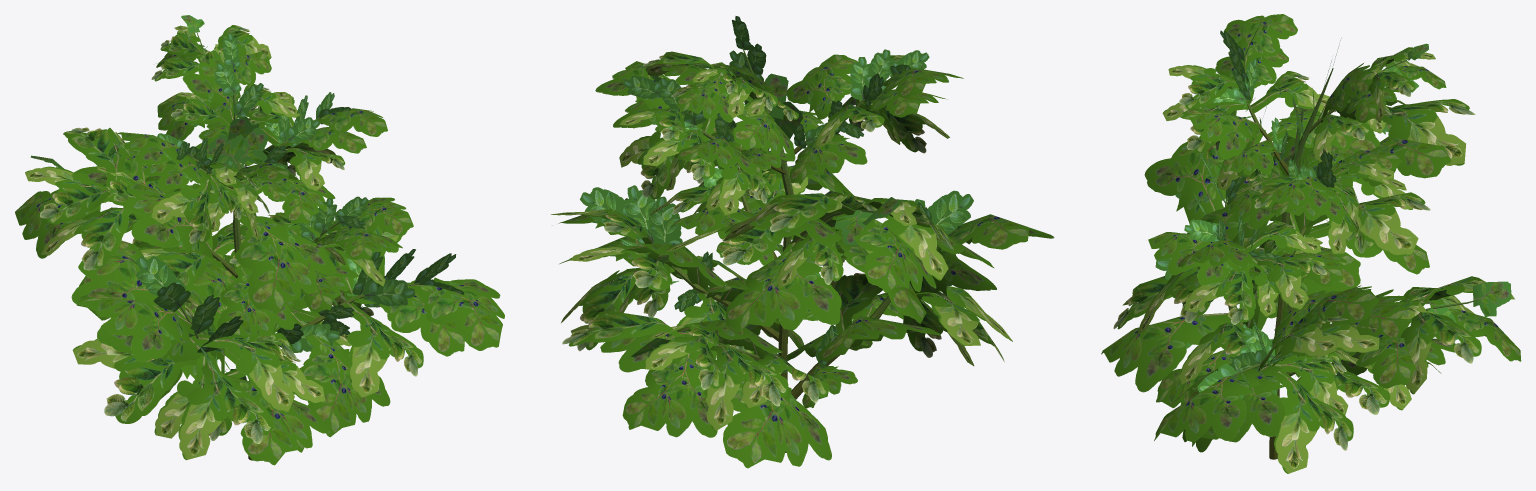
The model's file is blueberry.obj.
3 views of the same model, side by side, from view 1: azimuth 30°, elevation 25°; view 2: azimuth 150°, elevation 25°; view 3: azimuth 270°, elevation 25° (orthographic). The views are drawn at different scales.
Parts seen in each view (by area): view 1: bush2; view 2: bush2; view 3: bush2.
Boxes of the visible parts, left/top/right/bottom form: bush2: left=15, top=15, right=504, bottom=465; bush2: left=551, top=16, right=1054, bottom=468; bush2: left=1101, top=14, right=1521, bottom=473.
Bounding box in the file's own units: 136 × 120 × 108.
1 material, 1 textured.
